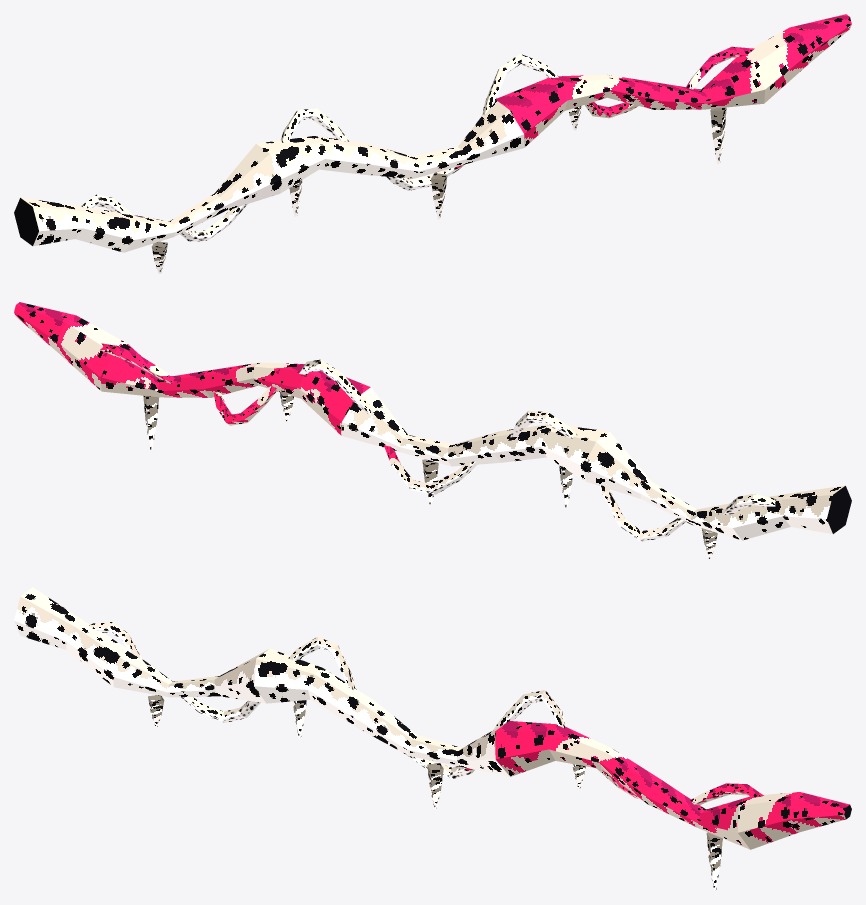
Rendered from NIE-02_Embrollo_mural.gltf.
The picture shows the model from 3 angles, top to bottom: view 1: azimuth 30°, elevation 25°; view 2: azimuth 150°, elevation 25°; view 3: azimuth 330°, elevation 25°; orthographic projection.
Parts seen in each view (by area): view 1: NIE-02_Embrollo_mural; view 2: NIE-02_Embrollo_mural; view 3: NIE-02_Embrollo_mural.
Boxes of the visible parts, x1,y1,x2,y2 form: NIE-02_Embrollo_mural: (14, 14, 851, 273); NIE-02_Embrollo_mural: (14, 302, 851, 558); NIE-02_Embrollo_mural: (14, 587, 851, 890).
Size of the model in its own units: 3 by 0.5069 by 0.1942.
1 material, 1 textured.
